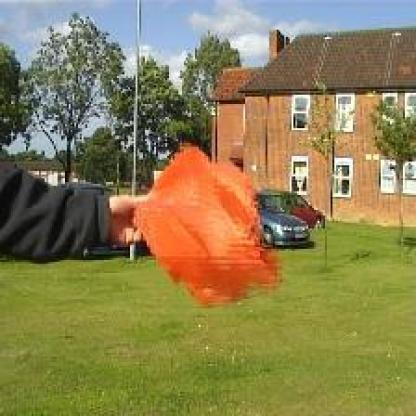other: (121, 145, 296, 309)
